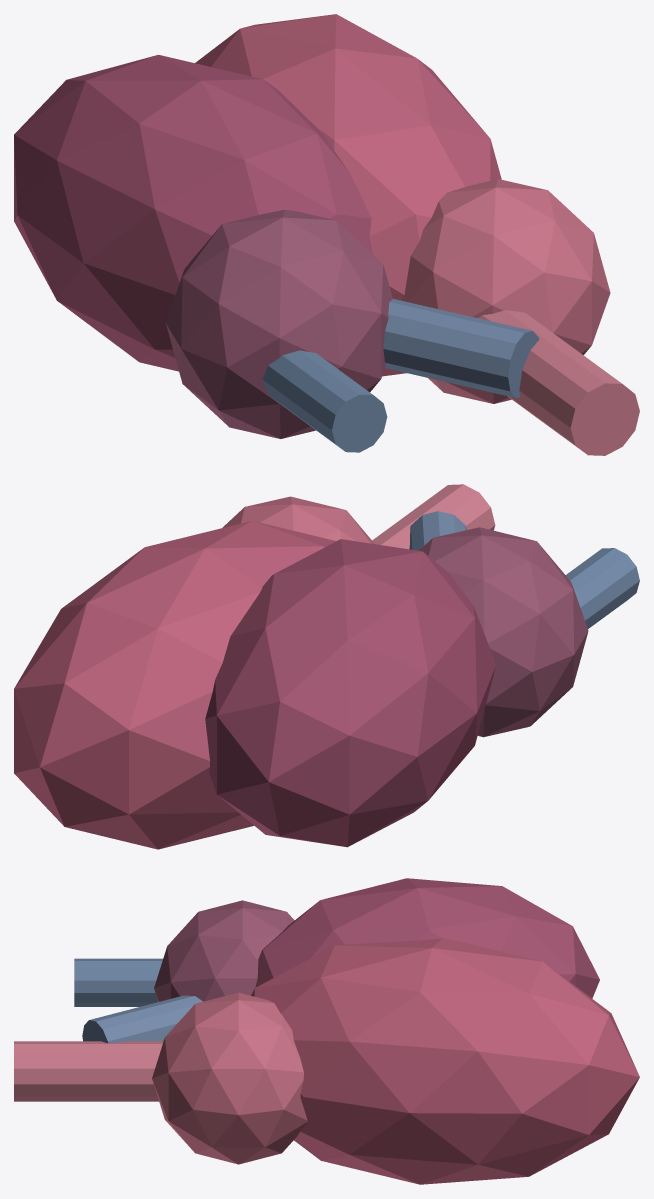
Rendered from heart-low.glb.
3 views of the same model, one above another, from view 1: azimuth 30°, elevation 25°; view 2: azimuth 150°, elevation 25°; view 3: azimuth 270°, elevation 25° (orthographic). The views are drawn at different scales.
Visible parts, largest first — view 1: right_ventricle, right_atrium, left_ventricle, left_atrium, aorta, pulmonary_artery, vena_cava; view 2: right_ventricle, left_ventricle, right_atrium, vena_cava, left_atrium, aorta, pulmonary_artery; view 3: left_ventricle, left_atrium, right_ventricle, right_atrium, aorta, vena_cava, pulmonary_artery.
Part boxes in pixels (x1,y1,x2,y2): right_ventricle: (14, 54, 372, 371); right_atrium: (165, 209, 392, 438); left_ventricle: (195, 14, 501, 376); left_atrium: (401, 179, 610, 403); aorta: (478, 310, 639, 455); pulmonary_artery: (383, 299, 539, 397); vena_cava: (262, 350, 387, 452); right_ventricle: (205, 539, 495, 847); left_ventricle: (14, 520, 336, 849); right_atrium: (419, 527, 588, 737); vena_cava: (565, 548, 639, 628); left_atrium: (222, 496, 374, 543); aorta: (372, 484, 495, 549); pulmonary_artery: (409, 511, 466, 550); left_ventricle: (251, 938, 639, 1184); left_atrium: (152, 992, 307, 1164); right_ventricle: (255, 878, 599, 998); right_atrium: (154, 900, 294, 1001); aorta: (14, 1041, 163, 1101); vena_cava: (74, 958, 162, 1006); pulmonary_artery: (82, 995, 202, 1043).
Bounding box in the file's own units: 1.83 × 1.28 × 3.11.
